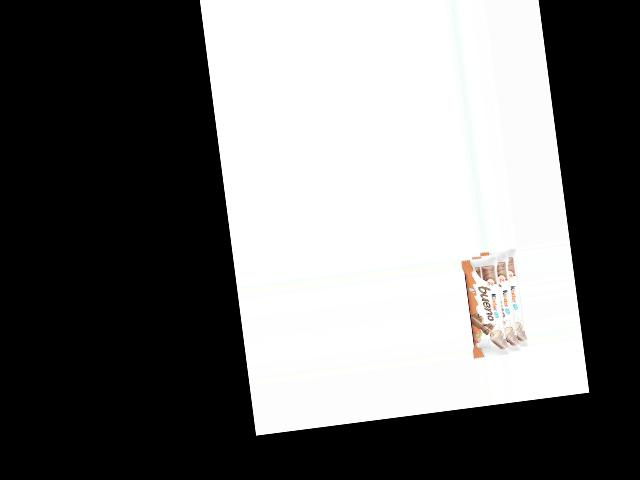chocolate: (459, 248, 528, 356)
